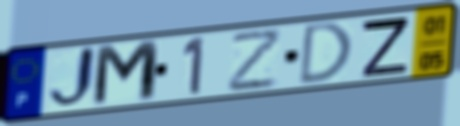1: (180, 35, 205, 98)
D: (296, 20, 355, 88)
J: (46, 43, 99, 114)
M: (90, 37, 162, 110)
Z: (227, 26, 286, 94), (359, 15, 412, 79)
